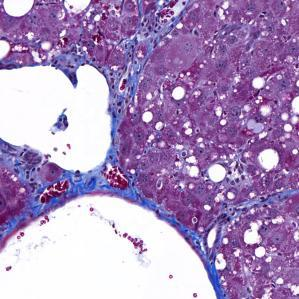fibrosis: (98, 58, 142, 193)
